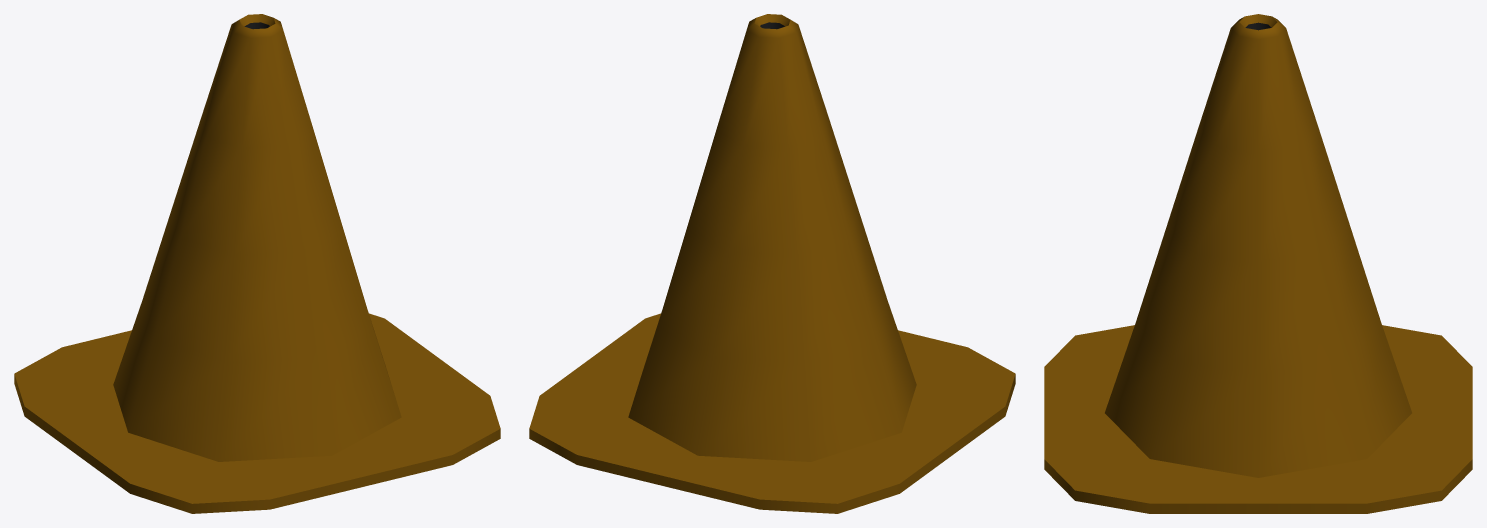
Rendered from PS_Traffic Cone.fbx.
The picture shows the model from 3 angles, left to right: view 1: azimuth 30°, elevation 25°; view 2: azimuth 150°, elevation 25°; view 3: azimuth 270°, elevation 25°; orthographic projection. The views are drawn at different scales.
Visible parts, largest first — view 1: PS_TrafficCone; view 2: PS_TrafficCone; view 3: PS_TrafficCone.
Part boxes in pixels (<box>): PS_TrafficCone: <box>14,14,500,513</box>; PS_TrafficCone: <box>529,14,1015,513</box>; PS_TrafficCone: <box>1044,14,1472,513</box>.
Bounding box in the file's own units: 0.6516 × 0.6733 × 0.6516.
